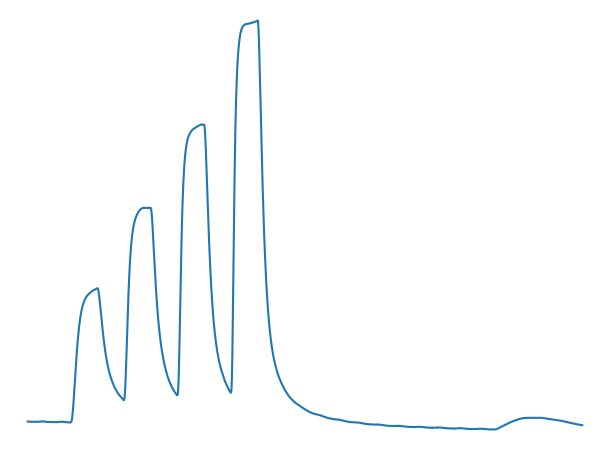decrease: (247, 13, 265, 36), (87, 282, 106, 302), (194, 118, 213, 138), (143, 199, 159, 222)
increase: (223, 362, 240, 399), (170, 361, 185, 402), (63, 404, 77, 429), (119, 381, 131, 404)
